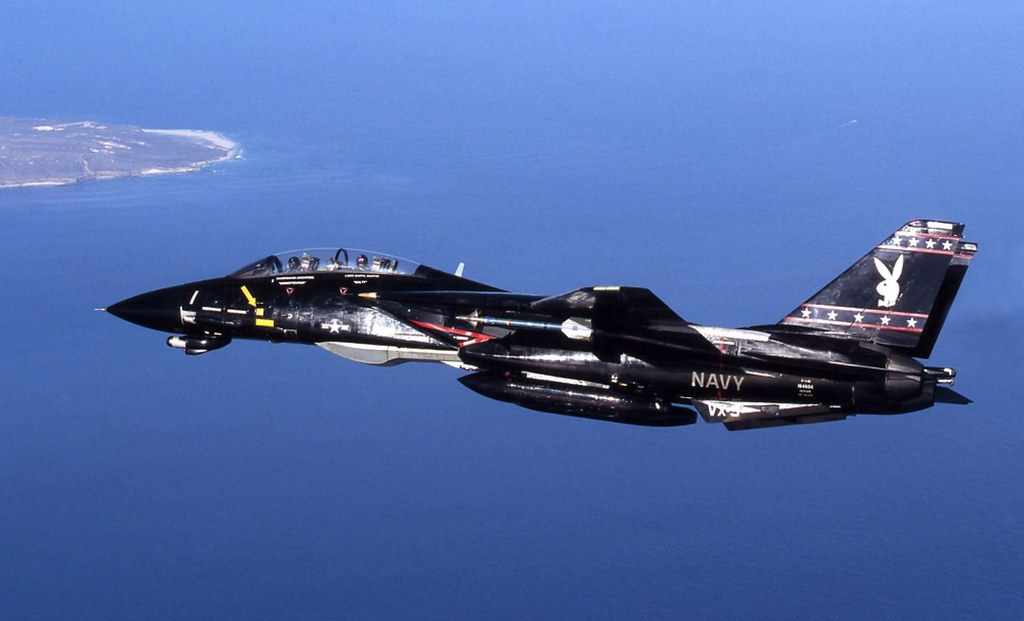F14: (92, 218, 978, 432)
